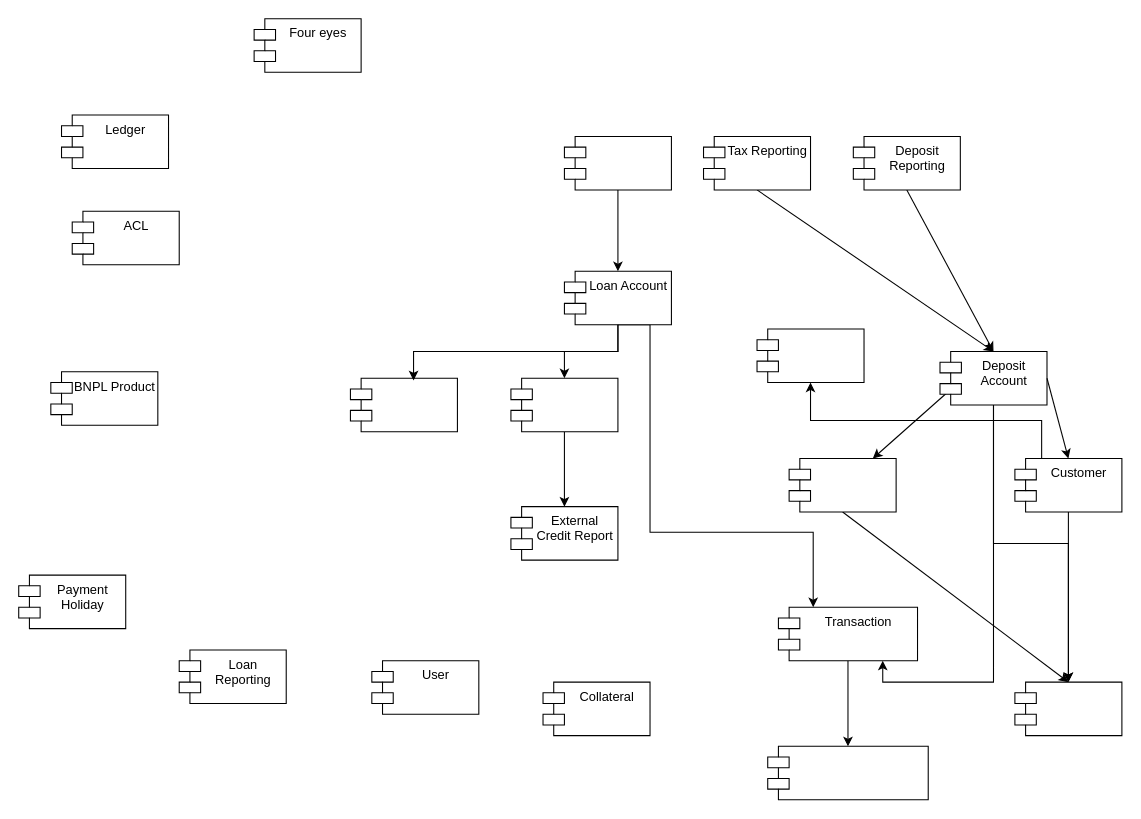
Some shapes in this 1141 by 819 pixel diagram are drawn without their labels. The centre of each missing label's shape, as x and y in pixels:
"Audit Log" belongs at pixel 1068 708.
"Cerdiwen <<cassandra>>" belongs at pixel 847 772.
"Collection" belongs at pixel 617 162.
"Deposit Product" belongs at pixel 842 484.
"Loan Application" belongs at pixel 564 404.
"Loan Product" belongs at pixel 403 404.
"MFA" belongs at pixel 810 355.
